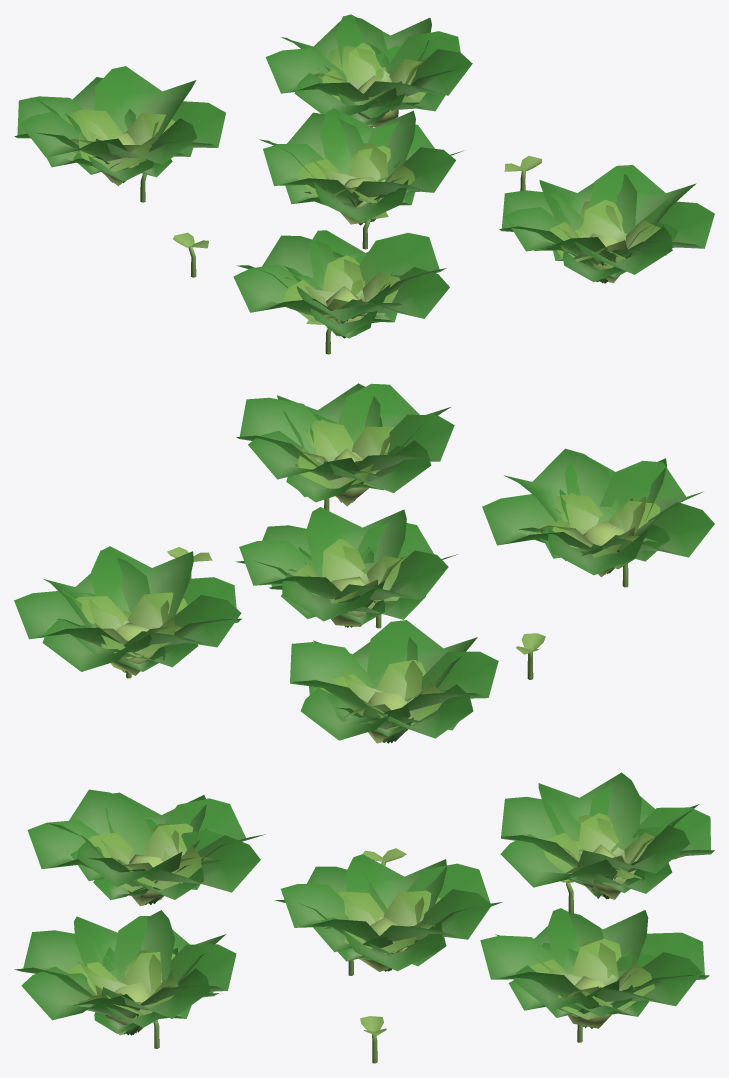
File: crop_lettuce.glb
3 renders of one model, top to bottom at view 1: azimuth 30°, elevation 25°; view 2: azimuth 150°, elevation 25°; view 3: azimuth 270°, elevation 25°, orthographic. The views are drawn at different scales.
Parts seen in each view (by area): view 1: stage3, stage2, stage0, stage1; view 2: stage3, stage2, stage1, stage0; view 3: stage3, stage2, stage1, stage0.
Boxes of the visible parts, left/top/right/bottom form: stage3: left=14, top=14, right=714, bottom=335; stage2: left=47, top=43, right=678, bottom=338; stage0: left=121, top=156, right=599, bottom=354; stage1: left=73, top=102, right=625, bottom=338; stage3: left=14, top=383, right=714, bottom=743; stage2: left=57, top=413, right=669, bottom=743; stage1: left=113, top=483, right=634, bottom=743; stage0: left=126, top=498, right=628, bottom=679; stage3: left=14, top=772, right=714, bottom=1035; stage2: left=69, top=819, right=676, bottom=1035; stage1: left=93, top=869, right=649, bottom=1035; stage0: left=142, top=848, right=582, bottom=1063.
Bounding box in the file's own units: 1.19 × 0.2288 × 1.51.
